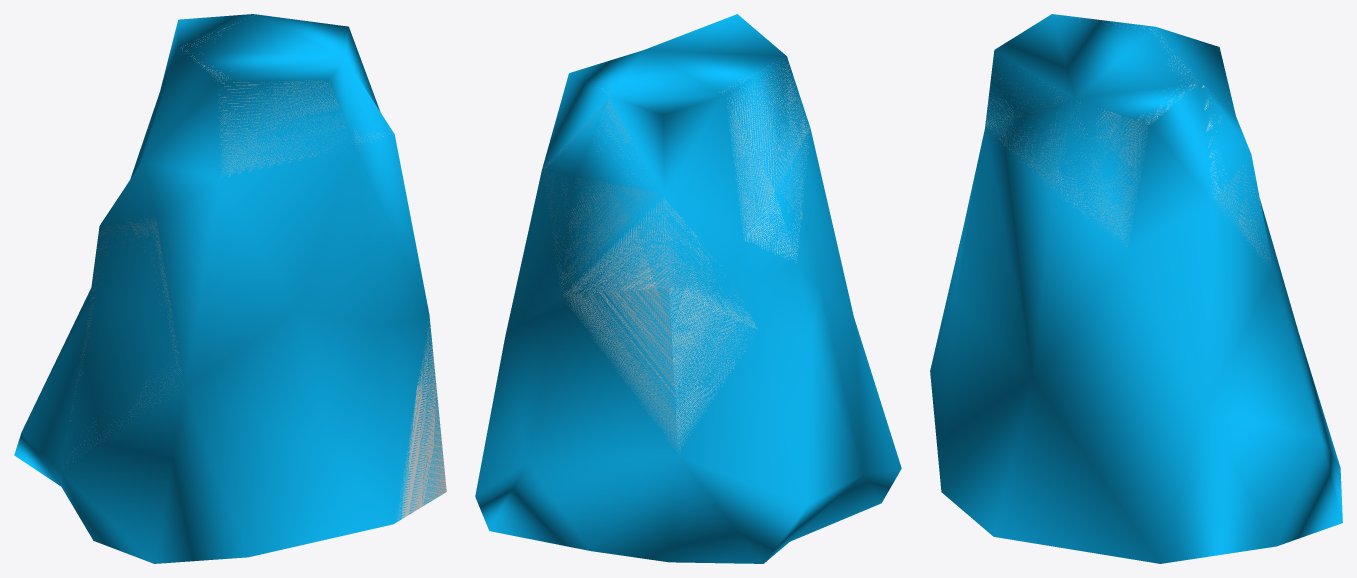
The model's file is PF_Rock_Riser_Tall.glb.
The picture shows the model from 3 angles, left to right: view 1: azimuth 30°, elevation 25°; view 2: azimuth 150°, elevation 25°; view 3: azimuth 270°, elevation 25°; orthographic projection. The views are drawn at different scales.
Visible parts, largest first — view 1: SM_Rock_Riser_Tall-gcc-stone, SM_Rock_Riser_Tall; view 2: SM_Rock_Riser_Tall-gcc-stone, SM_Rock_Riser_Tall; view 3: SM_Rock_Riser_Tall-gcc-stone, SM_Rock_Riser_Tall.
Boxes of the visible parts, x1=… form: SM_Rock_Riser_Tall-gcc-stone: x1=14, y1=14, x2=445, y2=563; SM_Rock_Riser_Tall: x1=67, y1=14, x2=446, y2=520; SM_Rock_Riser_Tall-gcc-stone: x1=475, y1=14, x2=901, y2=563; SM_Rock_Riser_Tall: x1=543, y1=64, x2=809, y2=451; SM_Rock_Riser_Tall-gcc-stone: x1=930, y1=14, x2=1342, y2=563; SM_Rock_Riser_Tall: x1=986, y1=18, x2=1269, y2=261.
Size of the model in its own units: 11.77 by 13.54 by 11.63.
